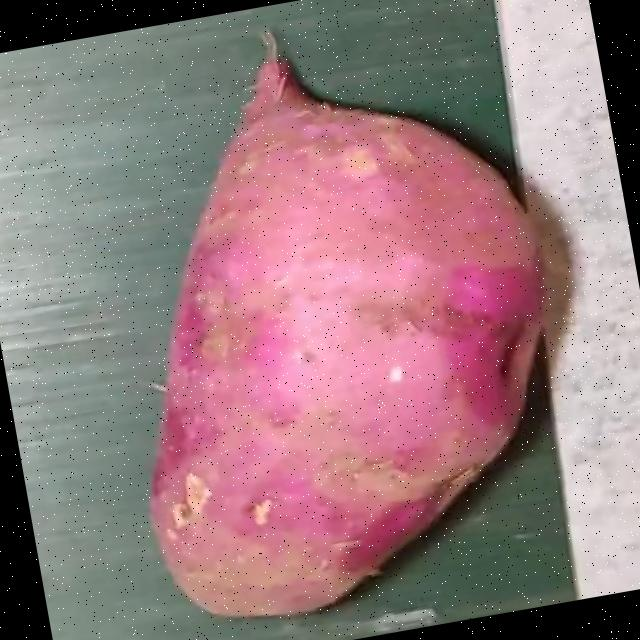Sweet Potato: (146, 87, 540, 616)
